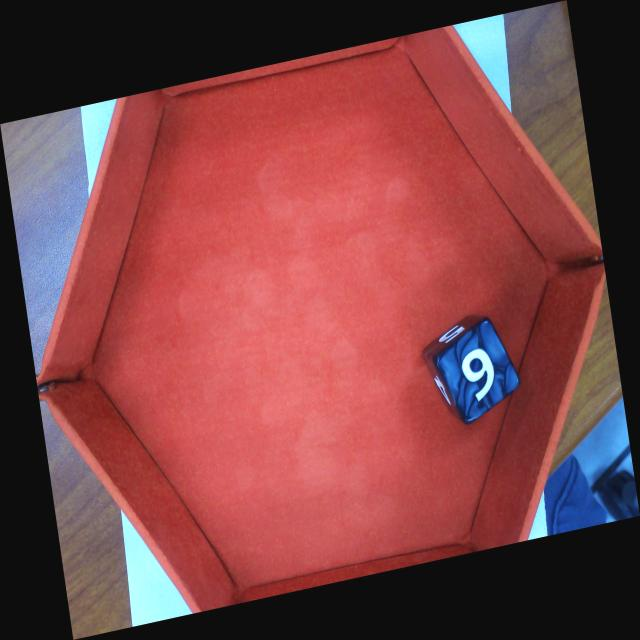dice: (433, 313, 522, 430)
